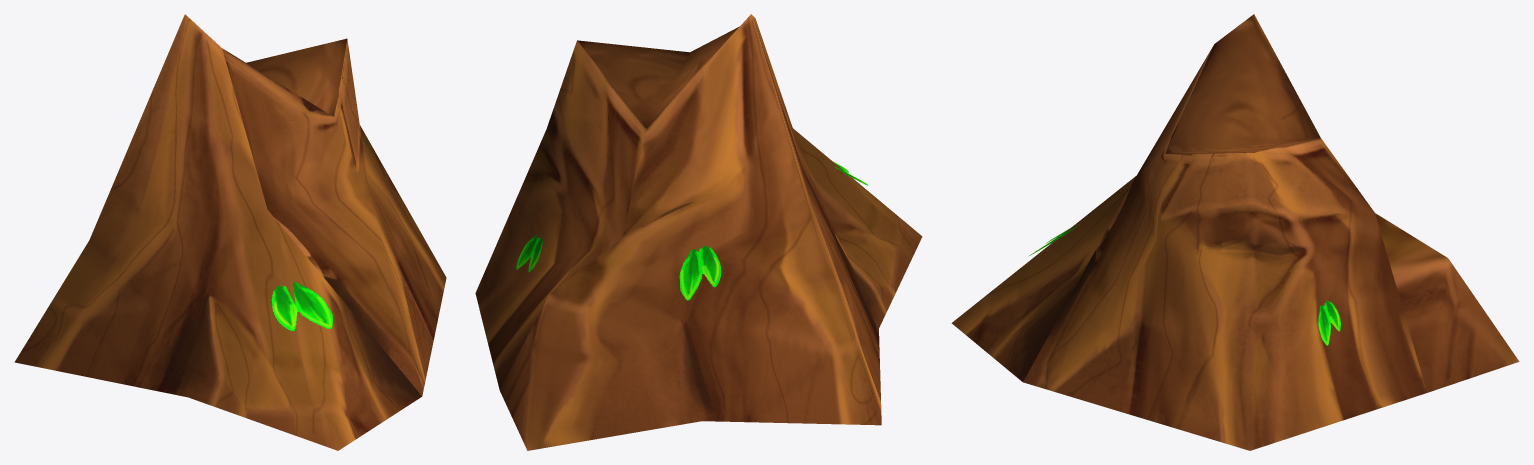
Rendered from 10_Tronco_Verde_Claro_LOD_2.fbx.
The picture shows the model from 3 angles, left to right: view 1: azimuth 30°, elevation 25°; view 2: azimuth 150°, elevation 25°; view 3: azimuth 270°, elevation 25°; orthographic projection. The views are drawn at different scales.
Parts seen in each view (by area): view 1: 10_Tronco_Verde_Claro_LOD_2; view 2: 10_Tronco_Verde_Claro_LOD_2; view 3: 10_Tronco_Verde_Claro_LOD_2.
Boxes of the visible parts, <box> form: 10_Tronco_Verde_Claro_LOD_2: <box>14,14,446,450</box>; 10_Tronco_Verde_Claro_LOD_2: <box>475,14,922,450</box>; 10_Tronco_Verde_Claro_LOD_2: <box>951,14,1519,450</box>.
Size of the model in its own units: 187 by 145 by 234.
